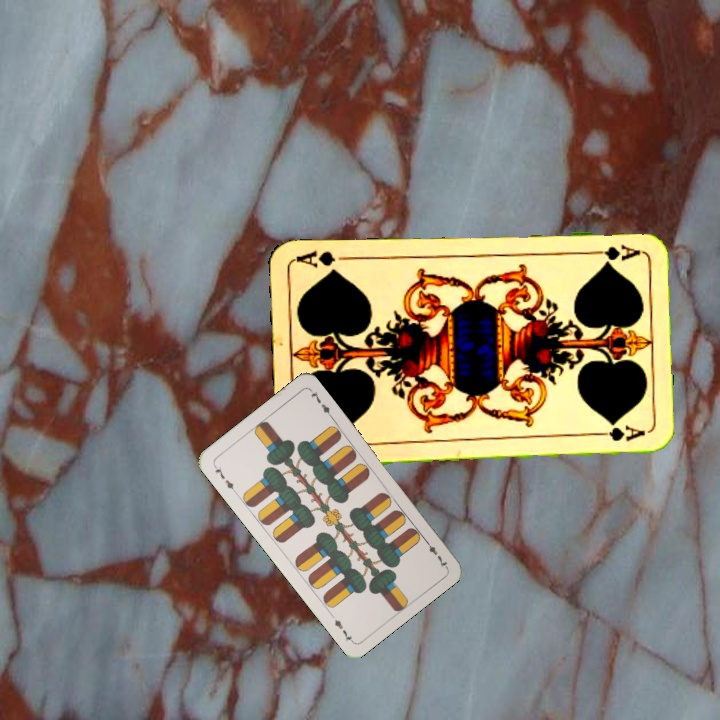E7: (209, 461, 239, 496), (420, 535, 450, 570)
GA: (583, 240, 642, 263)
